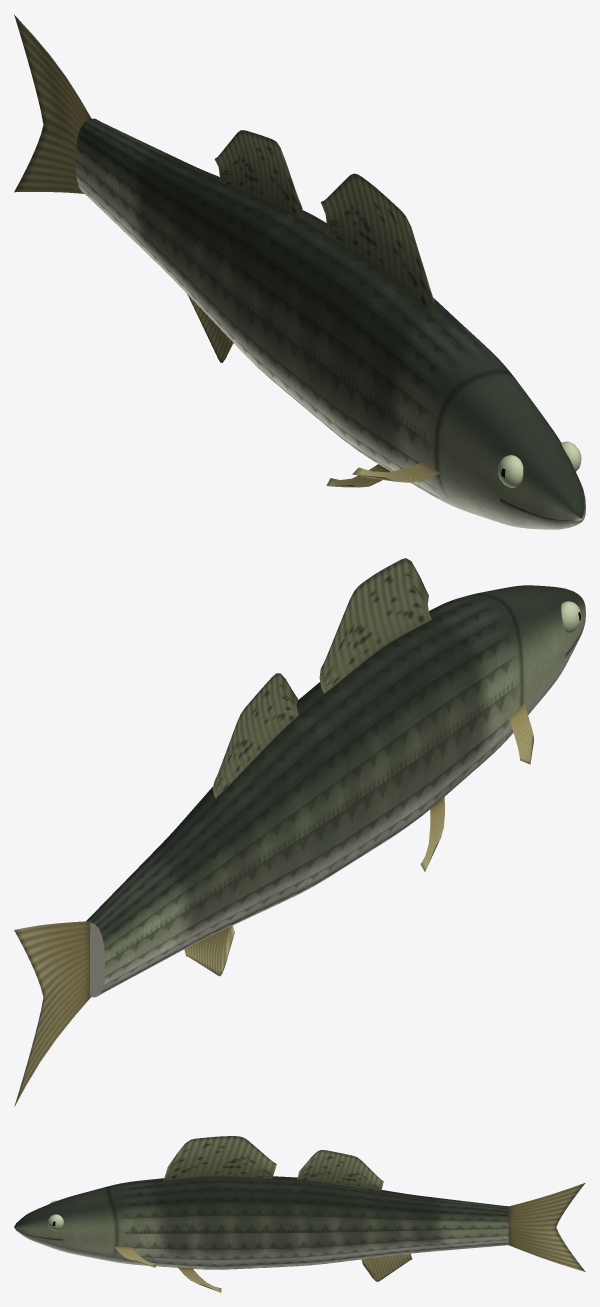
The model's file is zander.obj.
The picture shows the model from 3 angles, top to bottom: view 1: azimuth 30°, elevation 25°; view 2: azimuth 150°, elevation 25°; view 3: azimuth 270°, elevation 25°; orthographic projection. The views are drawn at different scales.
Parts seen in each view (by area): view 1: zander_body, zander_fin_d, zander_fin_p, zander_iris; view 2: zander_body, zander_fin_d, zander_fin_p; view 3: zander_body, zander_fin_d, zander_fin_p, zander_iris.
Boxes of the visible parts, bbox=[...] form: zander_body: bbox=[76, 118, 585, 529]; zander_fin_d: bbox=[214, 130, 435, 316]; zander_fin_p: bbox=[14, 14, 440, 487]; zander_iris: bbox=[498, 441, 581, 487]; zander_body: bbox=[86, 585, 585, 997]; zander_fin_d: bbox=[213, 558, 431, 797]; zander_fin_p: bbox=[14, 703, 533, 1106]; zander_body: bbox=[14, 1176, 508, 1269]; zander_fin_d: bbox=[163, 1136, 383, 1191]; zander_fin_p: bbox=[114, 1182, 585, 1292]; zander_iris: bbox=[48, 1200, 63, 1230].
Bounding box in the file's own units: 0.1363 × 0.2115 × 0.7514.
5 materials, 3 textured.
